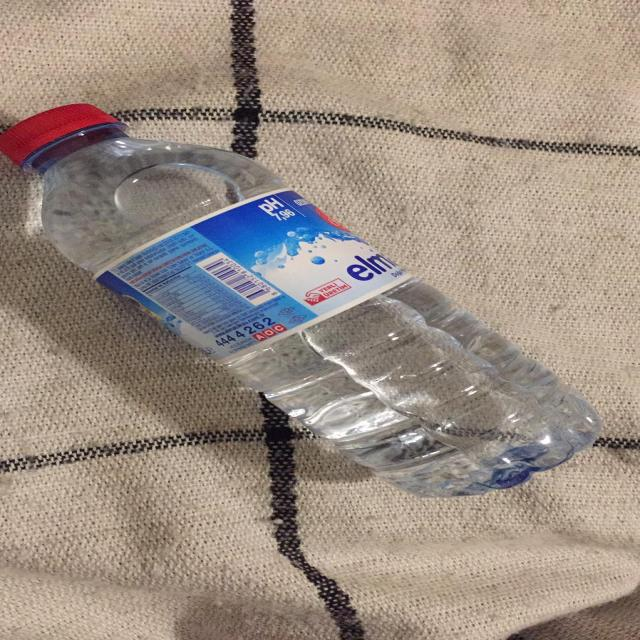bottle: (0, 79, 616, 518)
